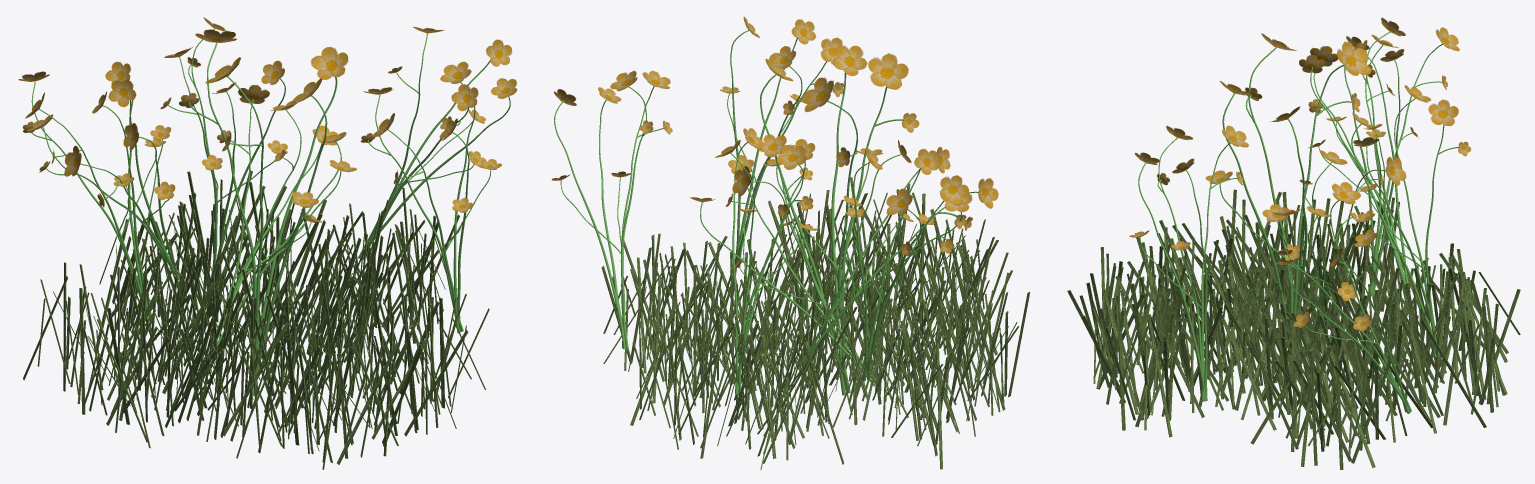
The model's file is bouton-or_grass.glb.
3 renders of one model, left to right at view 1: azimuth 30°, elevation 25°; view 2: azimuth 150°, elevation 25°; view 3: azimuth 270°, elevation 25°, orthographic. The views are drawn at different scales.
Parts seen in each view (by area): view 1: Bouton dor_petal_1 (×7), Cube.008; view 2: Bouton dor_petal_1 (×7); view 3: Bouton dor_petal_1 (×7), Cube.008 (×6).
Boxes of the visible parts, x1,y1,x2,y2 form: Bouton dor_petal_1 (×7): [18, 17, 517, 396]; Cube.008: [337, 342, 399, 464]; Bouton dor_petal_1 (×7): [551, 16, 998, 395]; Bouton dor_petal_1 (×7): [1129, 17, 1470, 413]; Cube.008 (×6): [1115, 296, 1486, 469].
Size of the model in its own units: 1.24 by 0.913 by 1.11.
7 materials, 3 textured.
